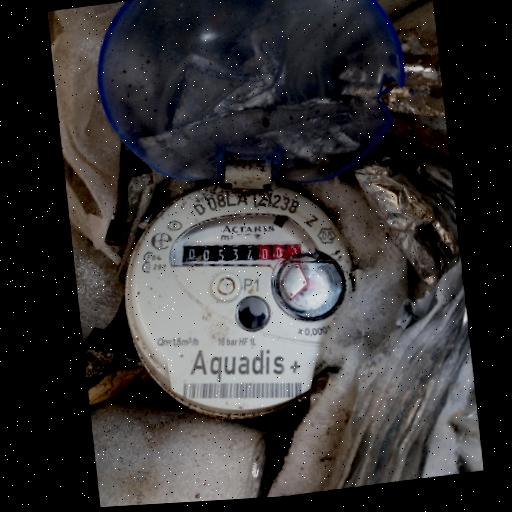0: (184, 244, 199, 263), (199, 244, 213, 263), (272, 243, 286, 261), (259, 243, 271, 261)
3: (229, 243, 242, 262)
4: (244, 243, 257, 262)
5: (286, 242, 302, 258), (216, 245, 227, 262)
border_water_meter_number: (178, 225, 304, 276)
